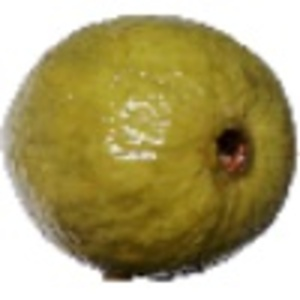goiaba: (4, 11, 296, 280)
